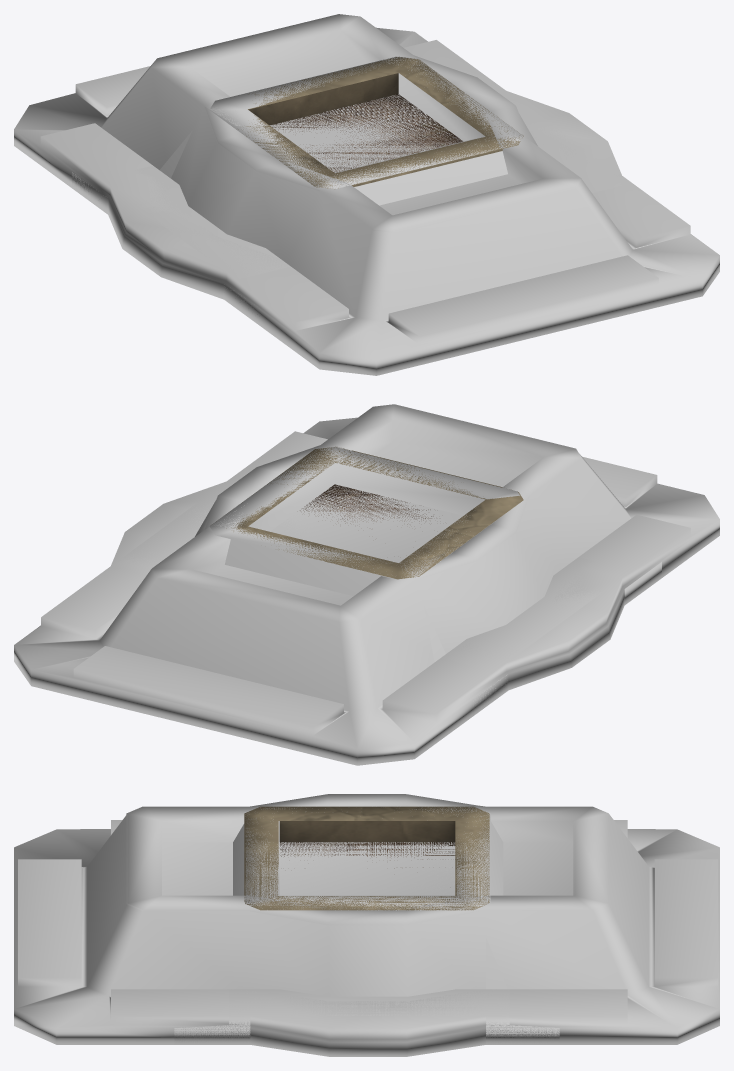
The model's file is flower_bucket_01.fbx.
3 renders of one model, top to bottom at view 1: azimuth 30°, elevation 25°; view 2: azimuth 150°, elevation 25°; view 3: azimuth 270°, elevation 25°, orthographic.
Parts seen in each view (by area): view 1: flower_bucket_01d, flower_bucket_01b, flower_bucket_01a, flower_bucket_01c; view 2: flower_bucket_01d, flower_bucket_01b, flower_bucket_01a, flower_bucket_01c; view 3: flower_bucket_01d, flower_bucket_01b, flower_bucket_01a, flower_bucket_01c.
Boxes of the visible parts, box(x1,y1,x2,y2) form: flower_bucket_01d: box(14, 14, 719, 375); flower_bucket_01b: box(72, 56, 624, 316); flower_bucket_01a: box(238, 57, 523, 189); flower_bucket_01c: box(190, 30, 581, 233); flower_bucket_01d: box(14, 404, 719, 765); flower_bucket_01b: box(115, 447, 661, 716); flower_bucket_01a: box(216, 446, 523, 579); flower_bucket_01c: box(165, 404, 581, 605); flower_bucket_01d: box(14, 806, 719, 1056); flower_bucket_01b: box(174, 806, 559, 1044); flower_bucket_01a: box(244, 806, 489, 910); flower_bucket_01c: box(126, 794, 591, 925).
Bounding box in the file's own units: 447 × 106 × 599.
